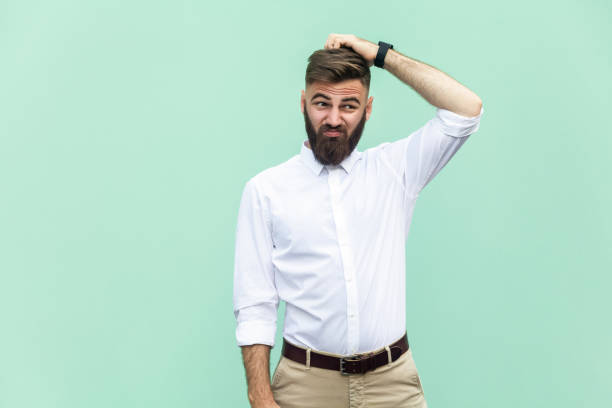person: (227, 31, 488, 406)
